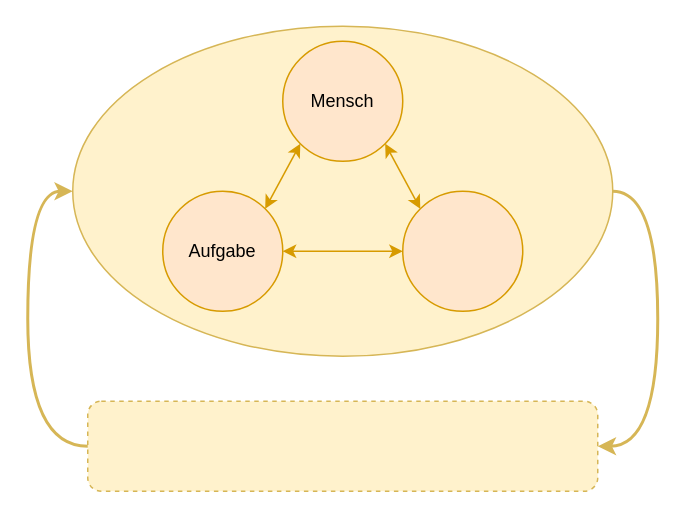
The diagram is 684 pixels wide and 518 high, and some of its shapes have lost their labels. The centre of each missing label's shape, as x and y in pixels:
Daten: the point at 342,445
Technik: the point at 462,250
